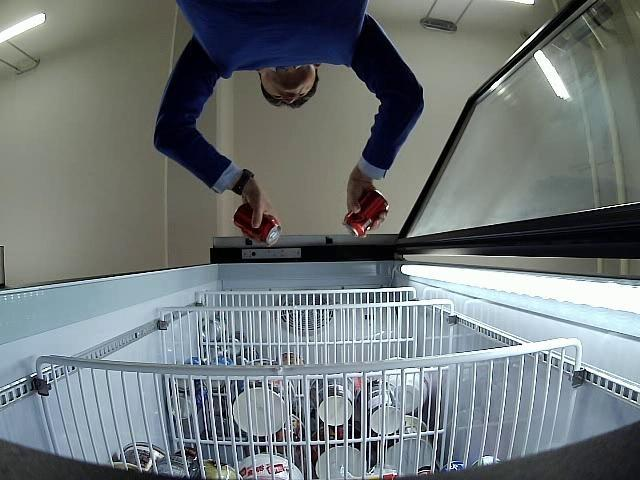11_cocaColaZero: (233, 203, 281, 247), (345, 190, 389, 236)
